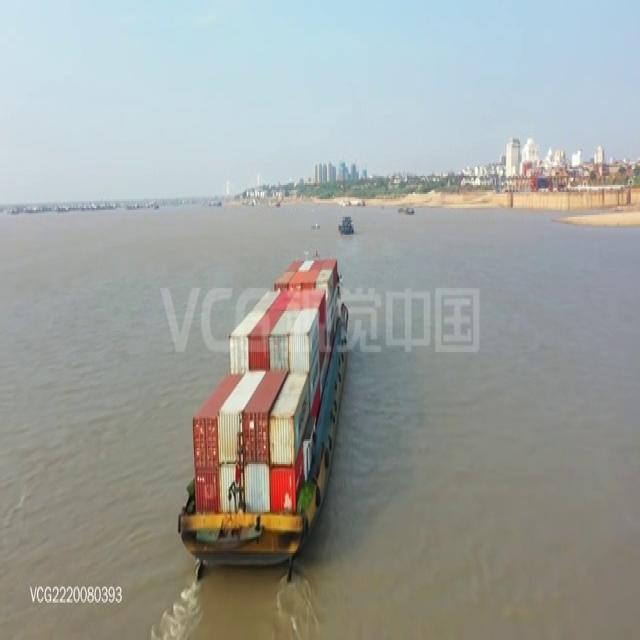cargoship: (179, 241, 348, 564)
